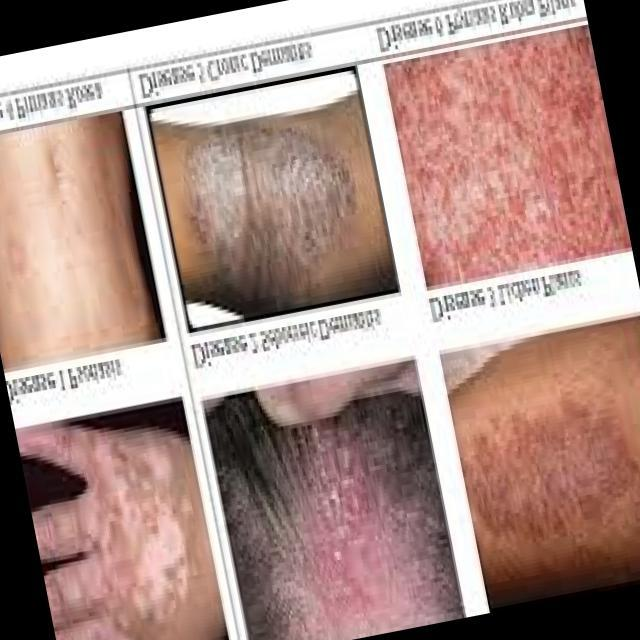Eczema: (397, 44, 606, 268), (173, 119, 358, 304), (454, 401, 640, 526), (288, 435, 388, 595)
